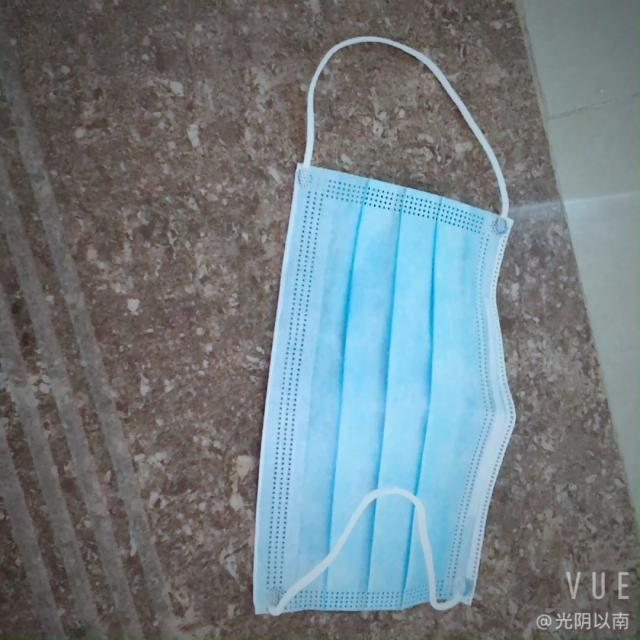face mask: (244, 174, 513, 612)
